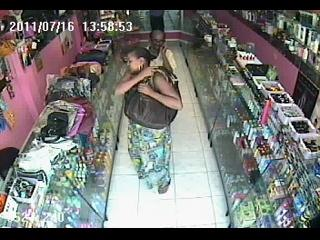Normal: (114, 46, 184, 194), (148, 30, 178, 74), (75, 50, 108, 65)
